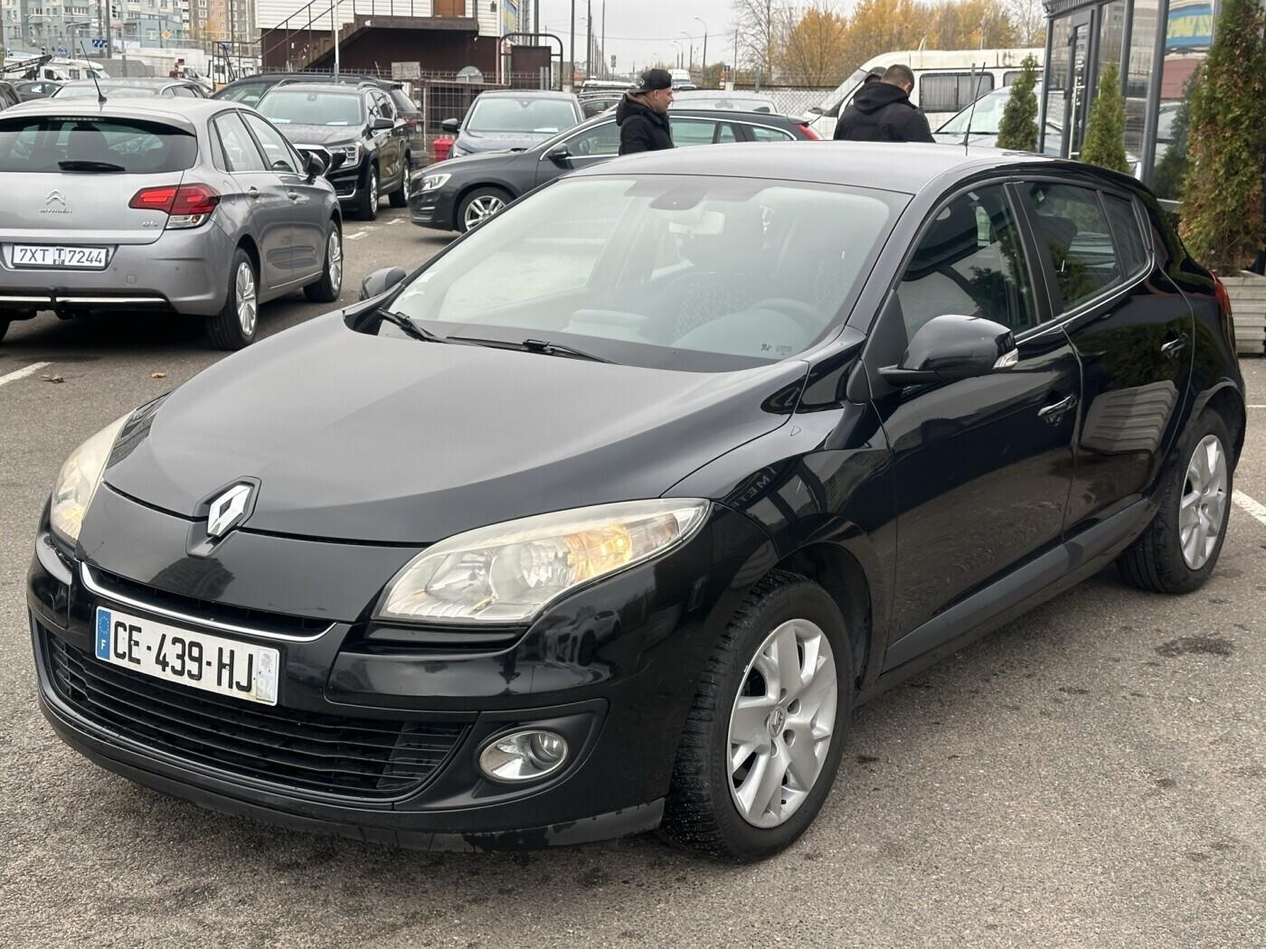Megane_2012-2014: (21, 142, 1249, 852)
